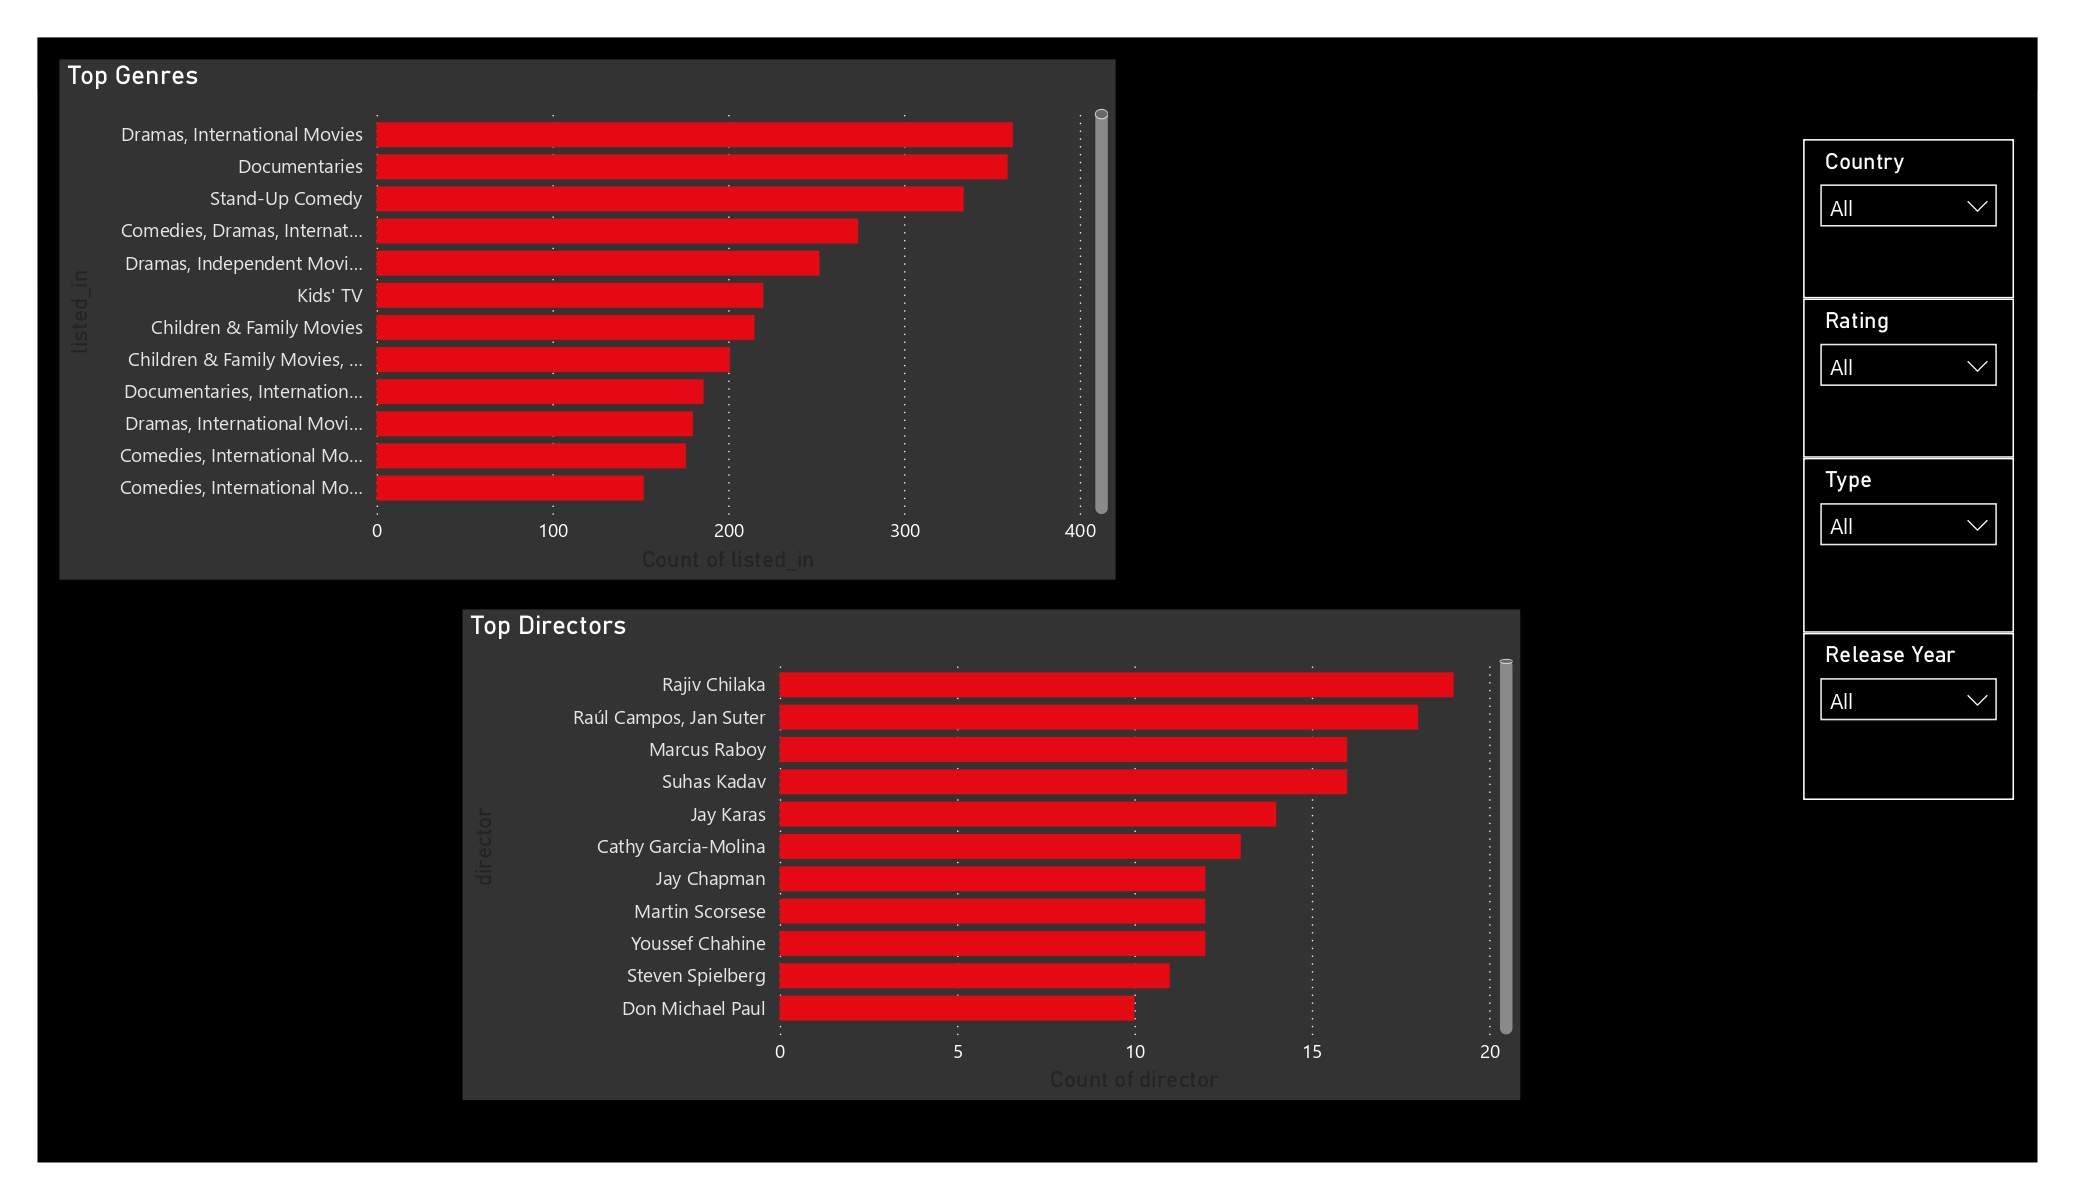

The dashboard page shown, as its layout file describes it:
{"tool":"powerbi","page":{"name":"Genre & Director Insights","canvas":[1280,720],"ordinal":2},"visuals":[{"type":"barChart","title":"Top Genres","fields":{"Category":["Netflix_database.listed_in"],"Y":["CountNonNull(Netflix_database.listed_in)"]},"box":[13.6,13.6,676,333.6],"z":0},{"type":"barChart","title":"Top Directors","fields":{"Category":["Netflix_database.director"],"Y":["CountNonNull(Netflix_database.director)"]},"box":[272.2,366.2,676.6,313.9],"z":1000},{"type":"slicer","fields":{"Values":["Netflix_database.country"]},"box":[1130.2,65.2,135.2,102.1],"z":2000},{"type":"slicer","fields":{"Values":["Netflix_database.rating"]},"box":[1130.2,167.3,135.2,102.1],"z":3000},{"type":"slicer","fields":{"Values":["Netflix_database.type"]},"box":[1130.2,269.4,135.2,111.9],"z":4000},{"type":"slicer","fields":{"Values":["Netflix_database.release_year"]},"box":[1130.2,381.3,135.2,107],"z":5000}]}

Visuals, with their boxes on the page's 1280x720 design canvas (x1, y1, x2, y2). These are canvas units, not pixel positions in the 2075x1200 screenshot, which may show the page scaled, cropped or inside an application window:
"Top Genres" barChart: {"left": 14, "top": 14, "right": 690, "bottom": 347}
"Top Directors" barChart: {"left": 272, "top": 366, "right": 949, "bottom": 680}
slicer - Netflix_database.country: {"left": 1130, "top": 65, "right": 1265, "bottom": 167}
slicer - Netflix_database.rating: {"left": 1130, "top": 167, "right": 1265, "bottom": 269}
slicer - Netflix_database.type: {"left": 1130, "top": 269, "right": 1265, "bottom": 381}
slicer - Netflix_database.release_year: {"left": 1130, "top": 381, "right": 1265, "bottom": 488}
